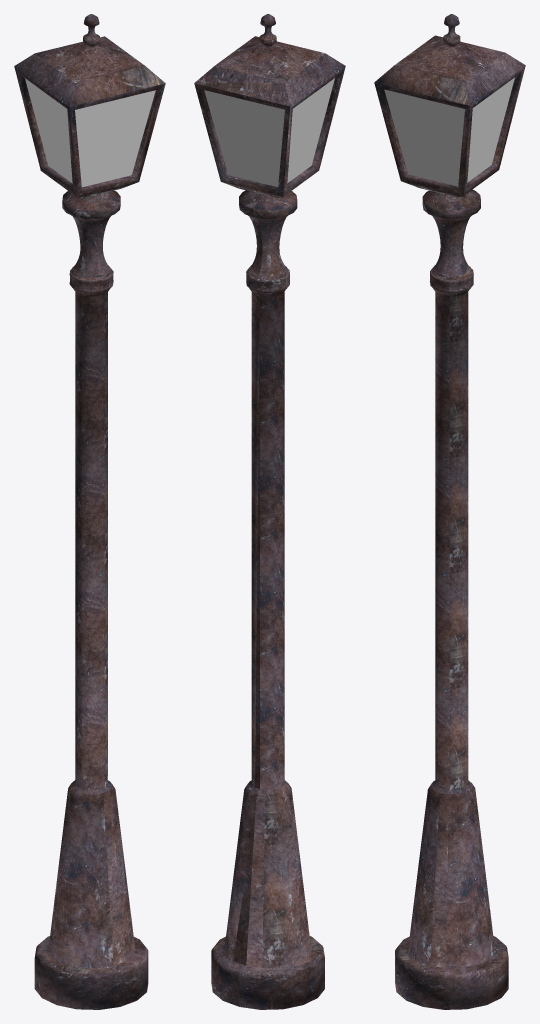
Rendered from Lamppost.obj.
3 renders of one model, left to right at view 1: azimuth 30°, elevation 25°; view 2: azimuth 150°, elevation 25°; view 3: azimuth 330°, elevation 25°, orthographic.
Visible parts, largest first — view 1: post, cage, cage.001; view 2: post, cage, cage.001; view 3: post, cage, cage.001.
Part boxes in pixels (x1,y1,x2,y2): post: (34,14,148,1009); cage: (14,36,165,198); cage.001: (25,78,155,187); post: (211,14,324,1009); cage: (194,36,345,198); cage.001: (204,78,334,187); post: (395,14,508,1009); cage: (374,35,525,197); cage.001: (384,77,514,186).
Bounding box in the file's own units: 0.8631 × 8.05 × 0.8623.
4 materials, 2 textured.
